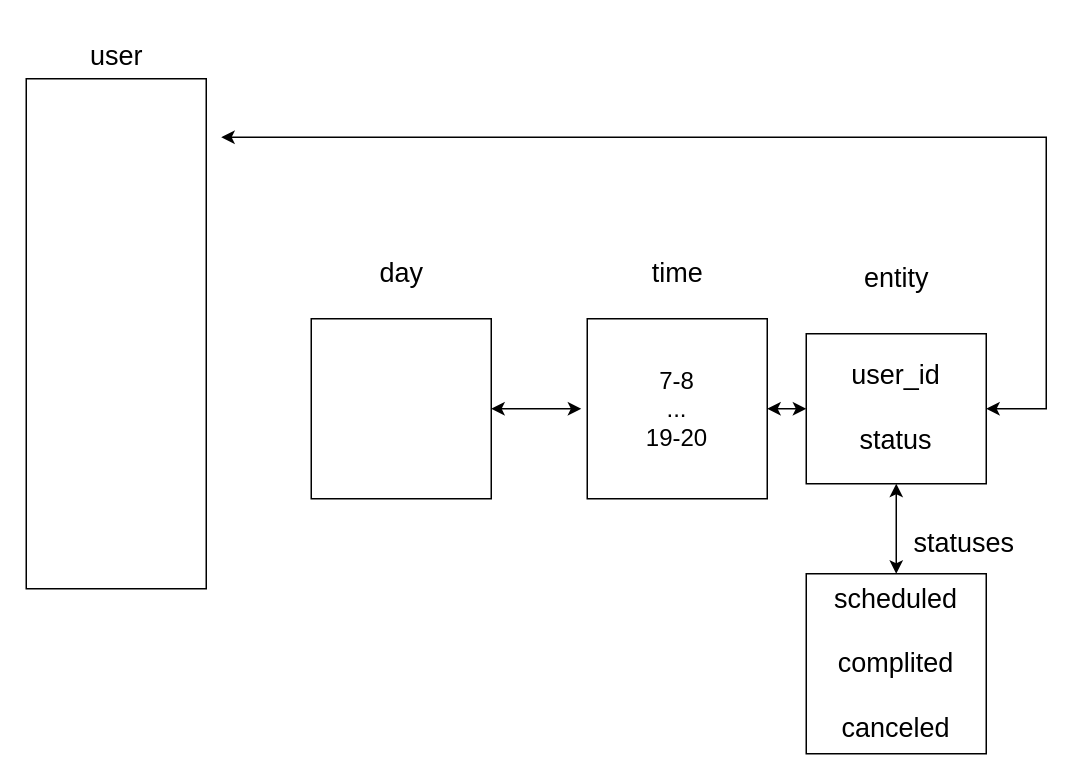
This 1086x780 diagram has some shape labels left out. The shapes that lost their labels are listed below. From the top down, each one's box as (x1, y1, x2, y2) in pixels, then its label:
(25, 77, 206, 589): id name surname login password isAdmin numberClass
(310, 317, 491, 499): id time date
